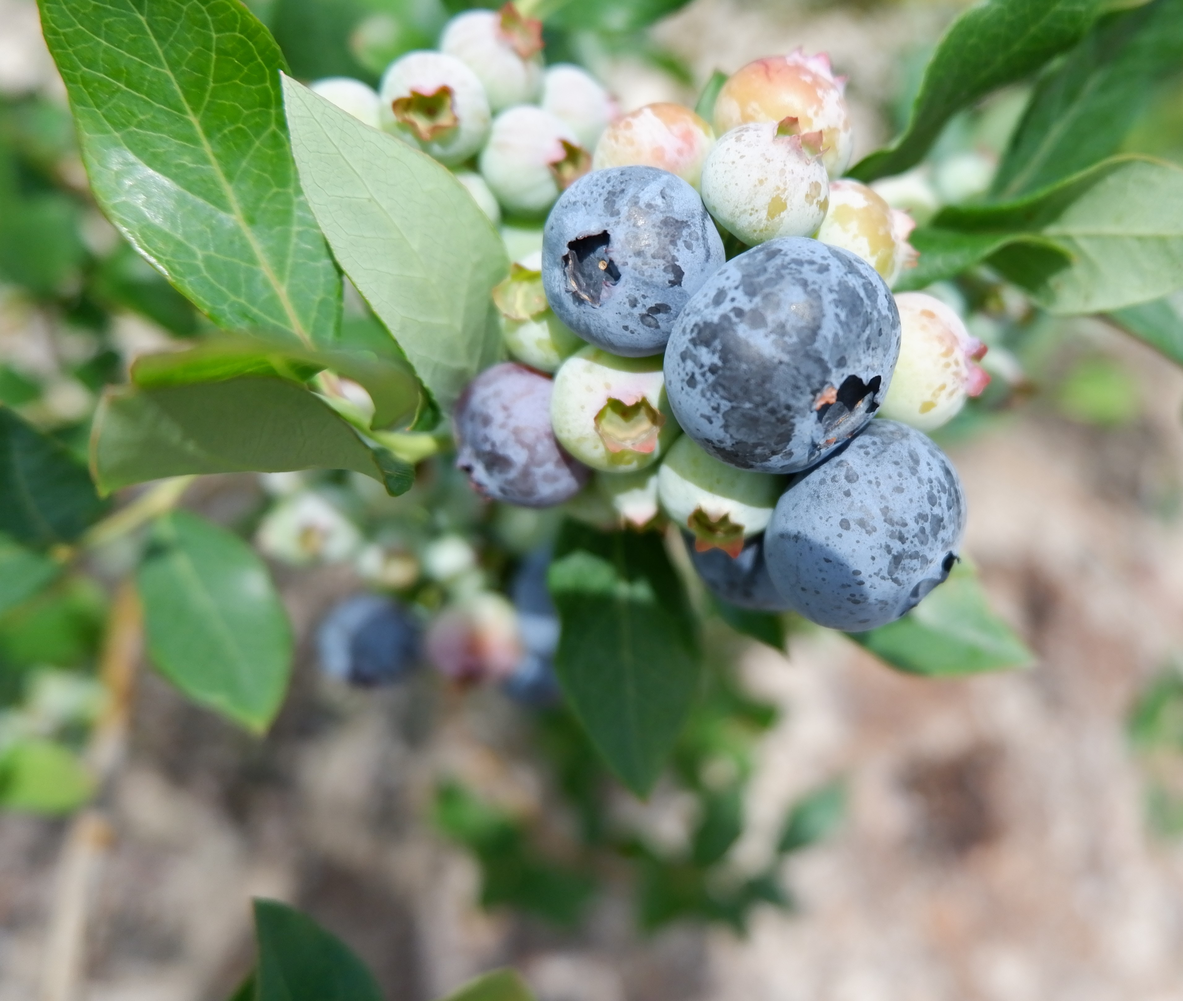Immature: (713, 51, 851, 186), (704, 120, 827, 241), (554, 348, 673, 471), (659, 436, 785, 551), (883, 294, 985, 428), (380, 54, 488, 160), (439, 11, 541, 110), (479, 106, 576, 206), (817, 179, 912, 281), (595, 103, 713, 185), (494, 266, 583, 370), (544, 67, 614, 151), (578, 466, 657, 528), (301, 77, 382, 129)
Mature: (669, 241, 900, 470), (772, 425, 964, 628), (545, 167, 721, 349), (452, 362, 586, 504), (694, 531, 786, 611)
